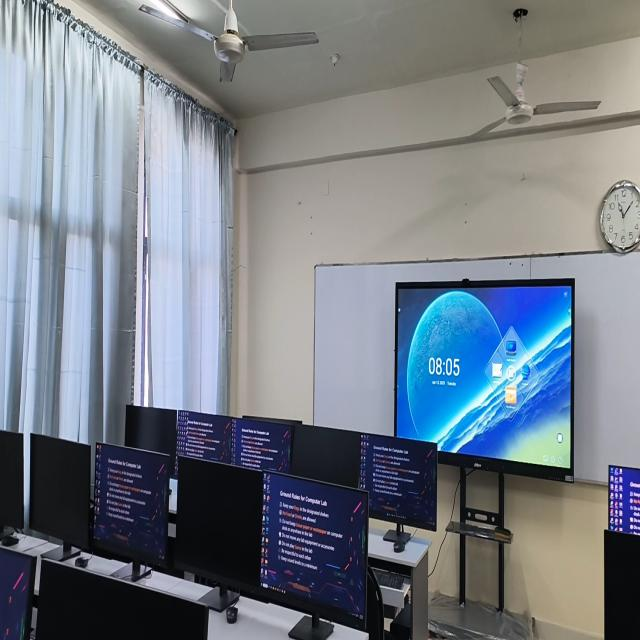Chair: (155, 513, 184, 578), (366, 558, 384, 639)
Cpu: (390, 600, 412, 639)
Digital board: (395, 279, 574, 639)
Keyboard: (373, 569, 404, 589)
Light: (155, 0, 187, 19)
Monitor: (261, 472, 368, 639), (174, 457, 263, 612), (36, 560, 209, 639), (94, 443, 169, 581), (29, 434, 92, 561), (359, 433, 437, 529), (290, 421, 360, 488), (604, 530, 640, 639), (125, 405, 177, 476), (232, 419, 292, 473), (0, 546, 34, 639), (177, 411, 233, 463), (0, 430, 24, 538), (608, 465, 640, 535)
Mouse: (383, 523, 412, 552), (2, 533, 19, 546), (225, 606, 237, 623), (75, 558, 89, 568)
